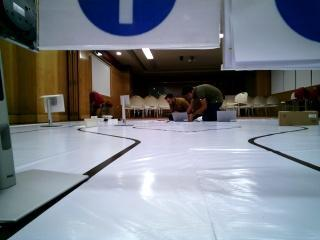straight: (42, 3, 216, 45)
